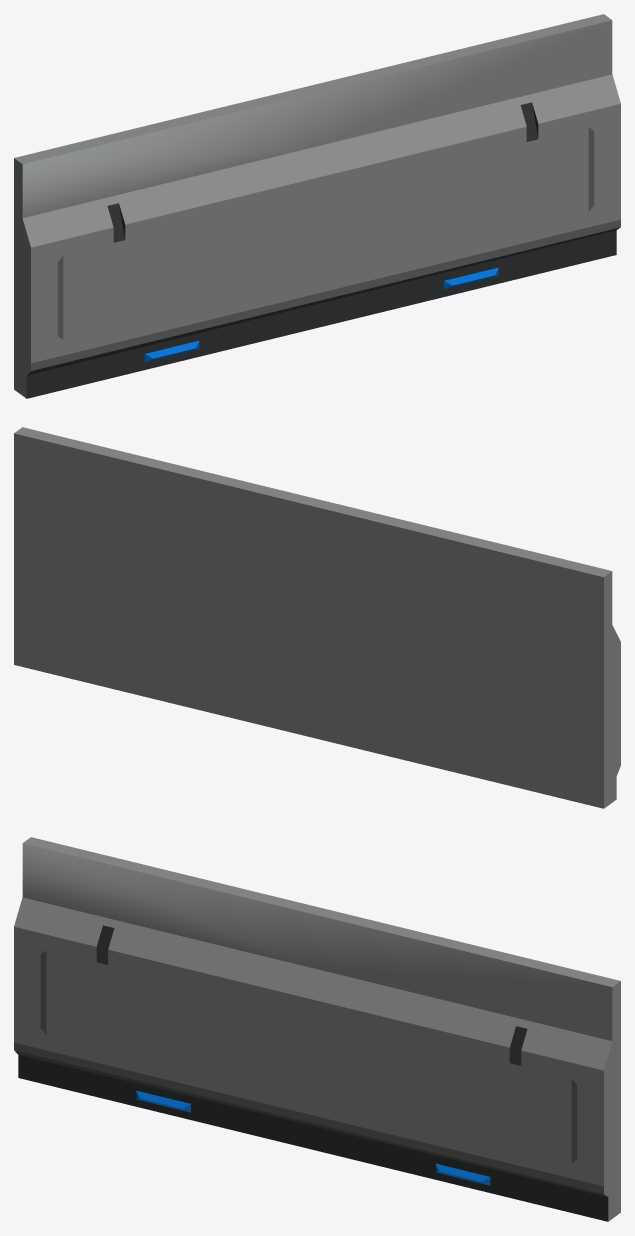
File: Wall_type_B_038.fbx
3 views of the same model, one above another, from view 1: azimuth 30°, elevation 25°; view 2: azimuth 150°, elevation 25°; view 3: azimuth 330°, elevation 25° (orthographic).
Visible parts, largest first — view 1: Wall_type_B_038; view 2: Wall_type_B_038; view 3: Wall_type_B_038.
Boxes of the visible parts, box(x1,y1,x2,y2) form: Wall_type_B_038: box(14, 14, 620, 398); Wall_type_B_038: box(14, 427, 620, 808); Wall_type_B_038: box(14, 837, 620, 1221).
Bounding box in the file's own units: 400 × 20 × 150.
